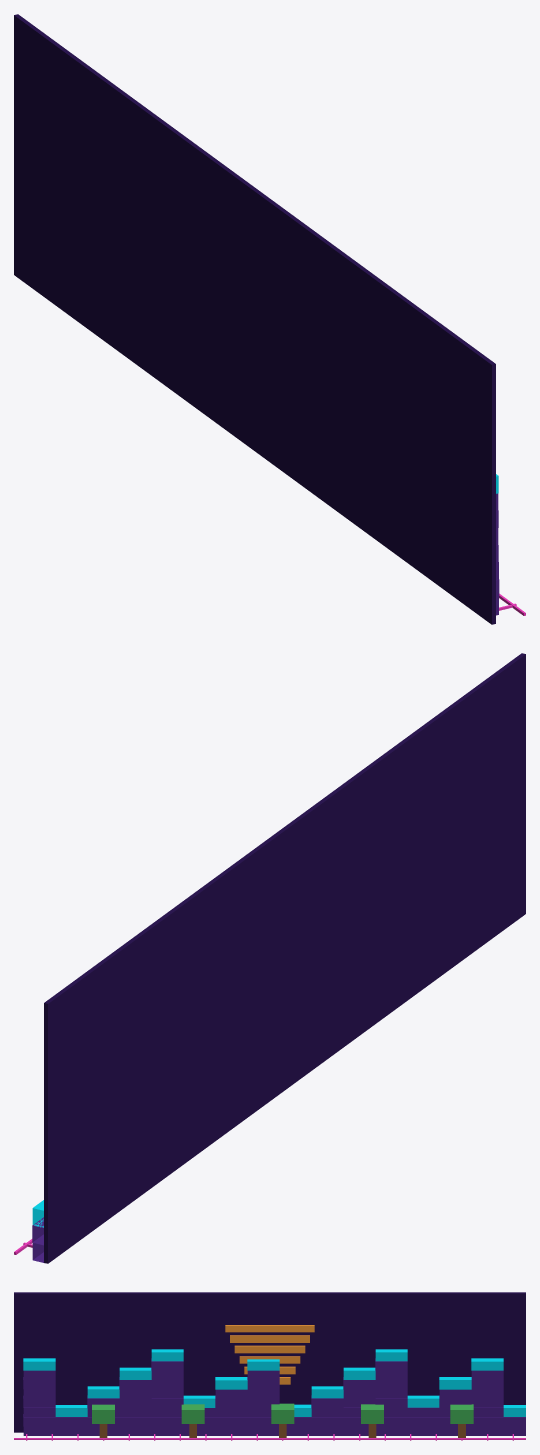
File: BackdropPixel.fbx
The picture shows the model from 3 angles, top to bottom: view 1: azimuth 30°, elevation 25°; view 2: azimuth 150°, elevation 25°; view 3: azimuth 270°, elevation 25°; orthographic projection. The views are drawn at different scales.
Parts seen in each view (by area): view 1: BackdropPixel; view 2: BackdropPixel; view 3: BackdropPixel.
Boxes of the visible parts, <box> form: BackdropPixel: <box>14,14,525,624</box>; BackdropPixel: <box>14,653,525,1263</box>; BackdropPixel: <box>14,1292,525,1440</box>.
Size of the model in its own units: 360 by 2405 by 8000.
